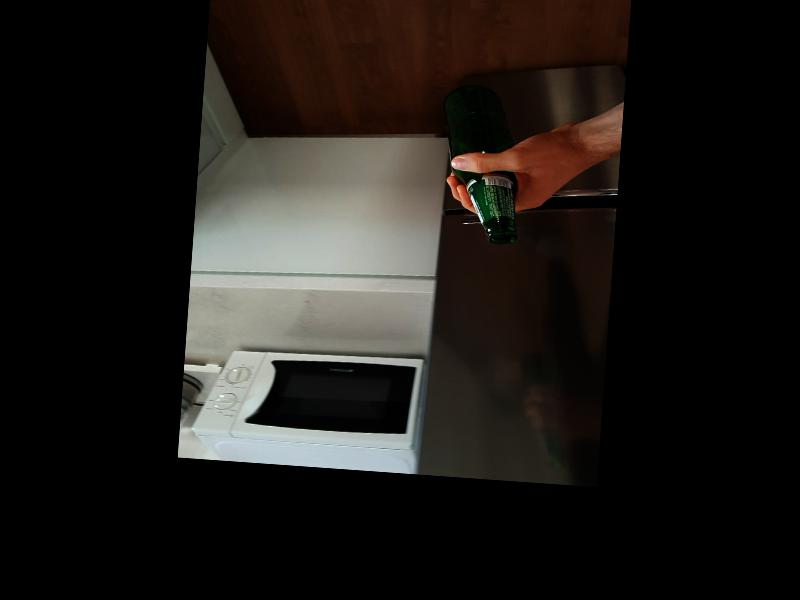Beer: (435, 82, 527, 245)
